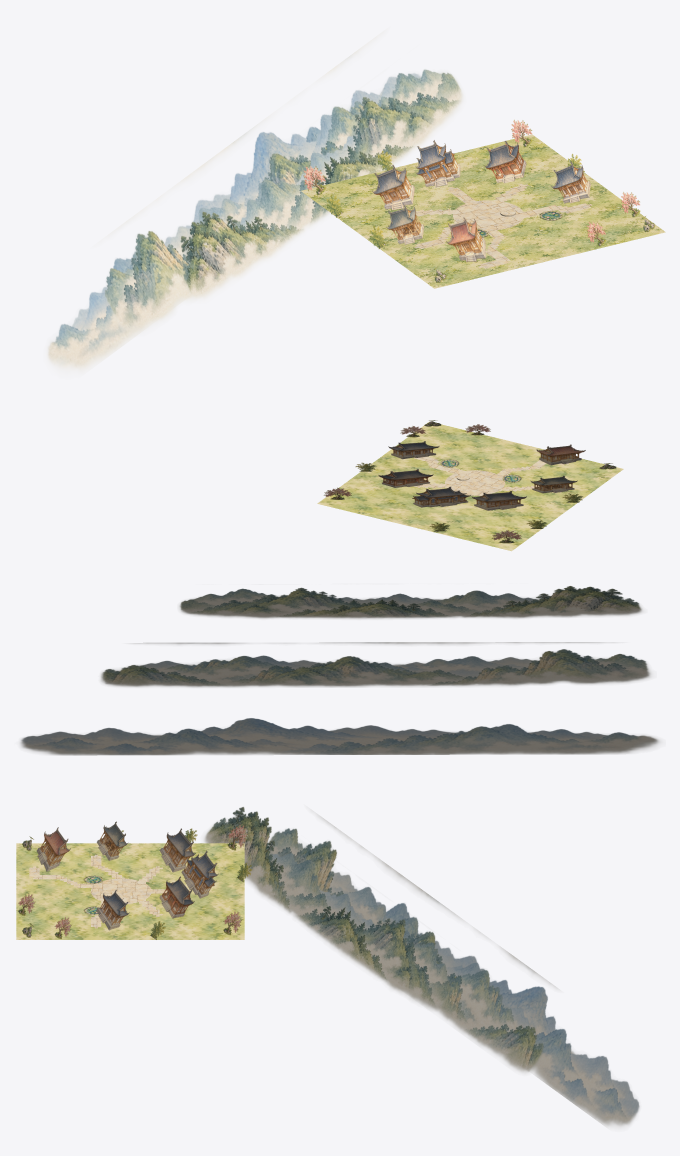
3 renders of one model, top to bottom at view 1: azimuth 30°, elevation 25°; view 2: azimuth 150°, elevation 25°; view 3: azimuth 270°, elevation 25°, orthographic. The views are drawn at different scales.
Parts seen in each view (by area): view 1: PaintedGround, MountainLayer_2, MountainLayer_1, MountainLayer_0, PaintedPaths, PaintedPlaza, PaintedHall_zg, PaintedHall_cq, PaintedHall_ch, PaintedHall_al, PaintedHall_gw, PaintedHall_zz; view 2: MountainLayer_0, PaintedGround, MountainLayer_1, MountainLayer_2, PaintedPlaza, PaintedHall_zg, PaintedPaths, PaintedHall_cq, PaintedHall_ch, PaintedHall_al, PaintedHall_gw, PaintedHall_zz; view 3: PaintedGround, MountainLayer_2, MountainLayer_1, MountainLayer_0, PaintedPaths, PaintedPlaza, PaintedHall_zg, PaintedHall_cq, PaintedHall_ch, PaintedHall_al, PaintedHall_gw, PaintedHall_zz.
Part boxes in pixels (x1,y1,x2,y2): PaintedGround: [301, 134, 665, 288]; MountainLayer_2: [180, 69, 463, 299]; MountainLayer_1: [99, 31, 419, 333]; MountainLayer_0: [47, 73, 421, 373]; PaintedPaths: [414, 183, 592, 268]; PaintedPlaza: [453, 200, 524, 230]; PaintedHall_zg: [415, 140, 460, 187]; PaintedHall_cq: [372, 164, 414, 210]; PaintedHall_ch: [484, 140, 526, 183]; PaintedHall_al: [446, 217, 485, 261]; PaintedHall_gw: [551, 161, 590, 203]; PaintedHall_zz: [386, 205, 424, 244]; MountainLayer_0: [20, 718, 659, 755]; PaintedGround: [317, 421, 623, 551]; MountainLayer_1: [100, 642, 651, 687]; MountainLayer_2: [179, 586, 642, 618]; PaintedPlaza: [445, 470, 504, 495]; PaintedHall_zg: [412, 486, 470, 507]; PaintedPaths: [414, 456, 569, 506]; PaintedHall_cq: [472, 491, 526, 510]; PaintedHall_ch: [378, 469, 433, 487]; PaintedHall_al: [536, 444, 585, 465]; PaintedHall_gw: [388, 441, 439, 459]; PaintedHall_zz: [530, 475, 577, 493]; PaintedGround: [16, 843, 244, 939]; MountainLayer_2: [203, 807, 451, 1008]; MountainLayer_1: [268, 811, 557, 1072]; MountainLayer_0: [354, 888, 639, 1127]; PaintedPaths: [29, 854, 167, 928]; PaintedPlaza: [90, 878, 151, 903]; PaintedHall_zg: [181, 850, 218, 898]; PaintedHall_cq: [159, 828, 195, 872]; PaintedHall_ch: [159, 876, 194, 918]; PaintedHall_al: [37, 827, 70, 871]; PaintedHall_gw: [96, 889, 129, 930]; PaintedHall_zz: [97, 821, 127, 860].
Size of the model in its own units: 130 by 42.86 by 143.
Materials: 10 (10 with a texture image).
